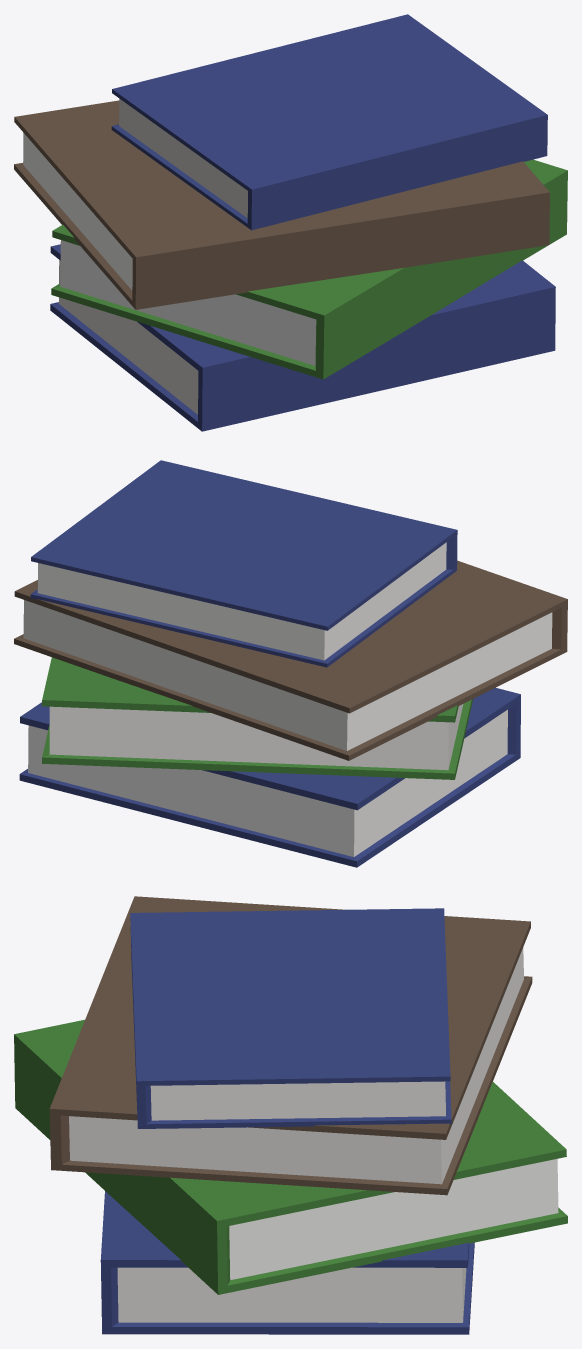
Rendered from Books_5.fbx.
3 renders of one model, top to bottom at view 1: azimuth 30°, elevation 25°; view 2: azimuth 150°, elevation 25°; view 3: azimuth 270°, elevation 25°, orthographic. The views are drawn at different scales.
Parts seen in each view (by area): view 1: Books_5; view 2: Books_5; view 3: Books_5.
Boxes of the visible parts, <box> form: Books_5: <box>14,14,567,431</box>; Books_5: <box>14,460,567,867</box>; Books_5: <box>14,896,567,1334</box>.
Size of the model in its own units: 40.68 by 36.17 by 18.72.
